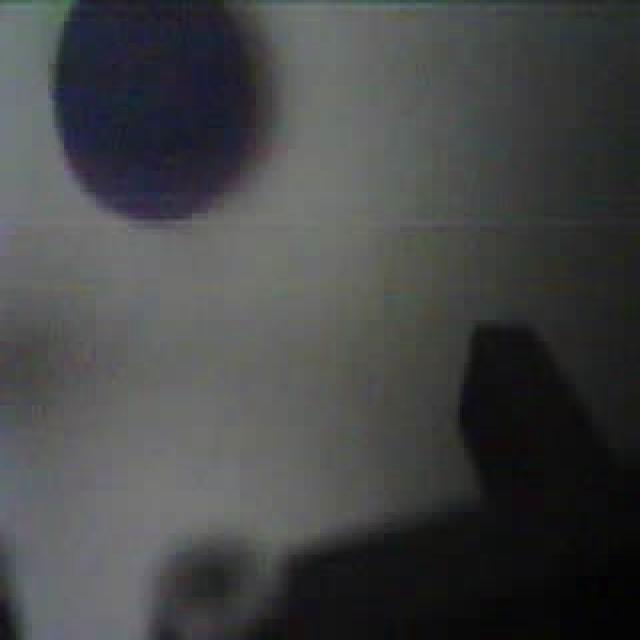blue_ball: (46, 0, 268, 229)
